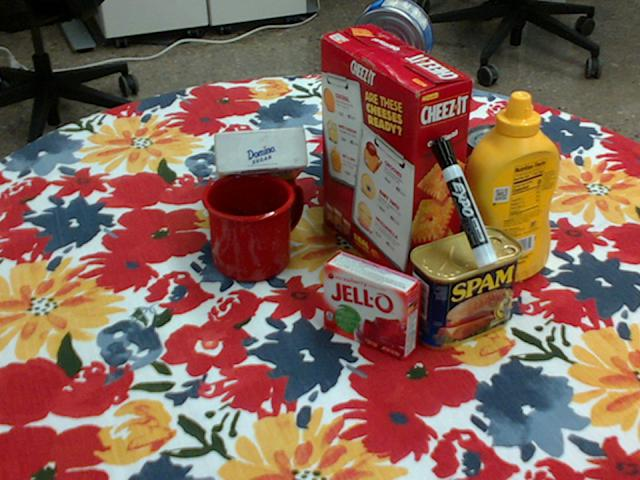cracker_box: (319, 26, 471, 291)
gelatin_box: (323, 249, 422, 358)
large_marker: (430, 136, 499, 266)
master_chef_can: (328, 57, 422, 207)
mug: (202, 171, 306, 281)
mustard_bottle: (457, 91, 559, 286)
potted_meat_can: (410, 225, 524, 349)
sugar_box: (215, 128, 308, 185)
tomato_soup_can: (457, 125, 529, 236)
tuna_fish_can: (349, 0, 432, 82)
